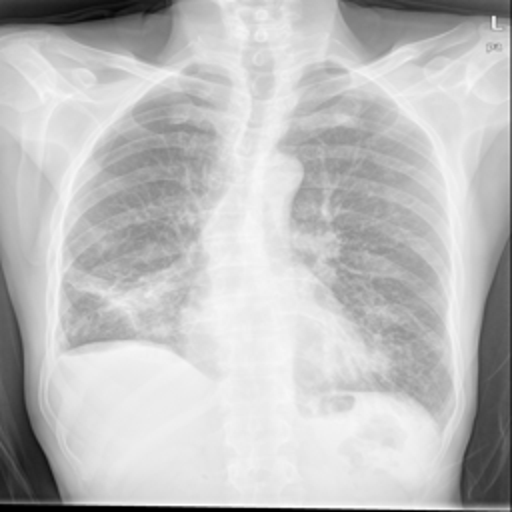TB: (63, 256, 201, 343), (311, 105, 380, 233)
